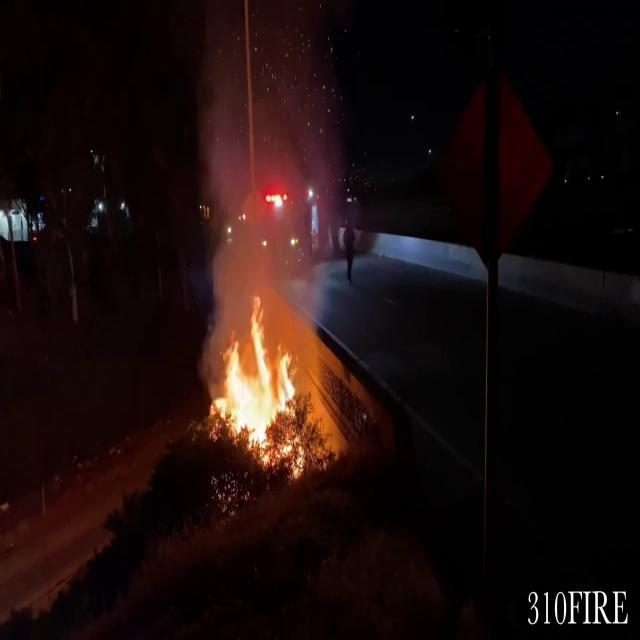Fire: (211, 296, 303, 459)
Smoke: (188, 2, 278, 320)
